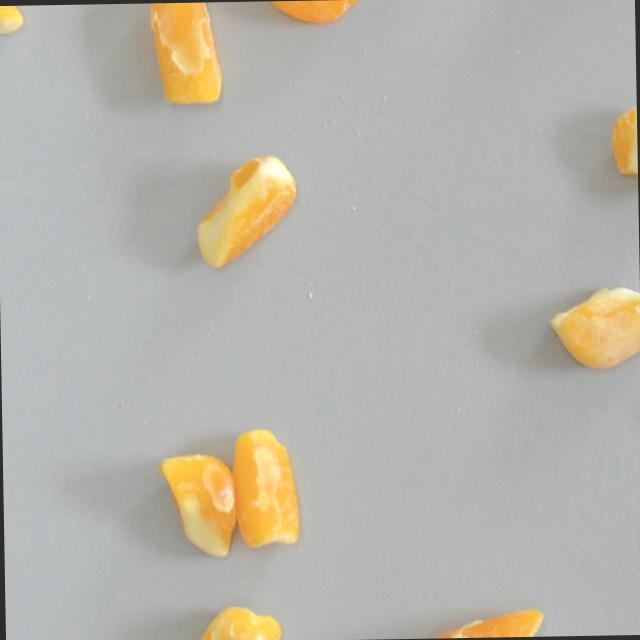pelicula: (187, 147, 300, 271), (225, 425, 313, 549), (153, 441, 241, 565), (547, 276, 640, 378), (143, 2, 230, 108), (409, 592, 546, 638), (181, 596, 282, 640), (604, 81, 638, 204), (240, 0, 365, 28)
